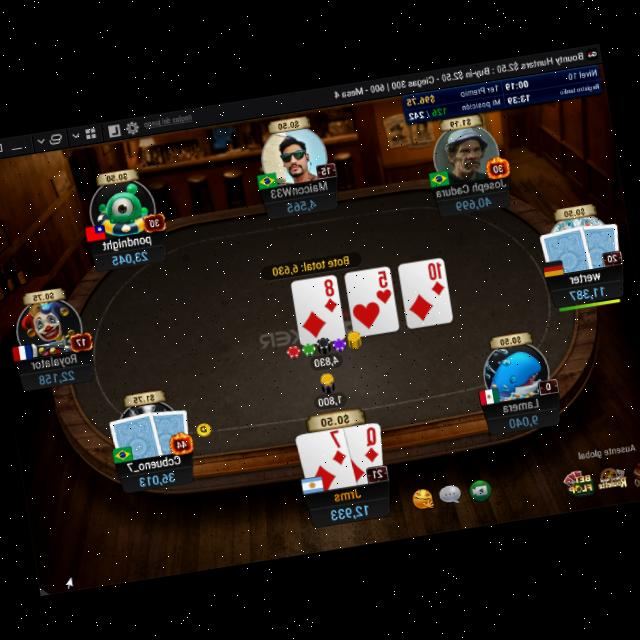5h: (371, 267, 394, 305)
7d: (326, 428, 350, 468)
8d: (318, 275, 340, 315)
Qd: (358, 424, 382, 464)
Td: (424, 258, 448, 298)
bet_text: (316, 392, 342, 408), (313, 353, 340, 368)
card_back: (538, 218, 594, 276), (106, 408, 164, 463), (574, 217, 624, 270), (146, 405, 193, 457)
dealer: (194, 419, 214, 438)
pot_text: (270, 254, 350, 276)
stack_text: (328, 500, 371, 524), (36, 366, 77, 386), (454, 192, 494, 212), (110, 247, 150, 267), (568, 282, 606, 302), (138, 469, 178, 488), (506, 410, 540, 429), (285, 196, 317, 215)
